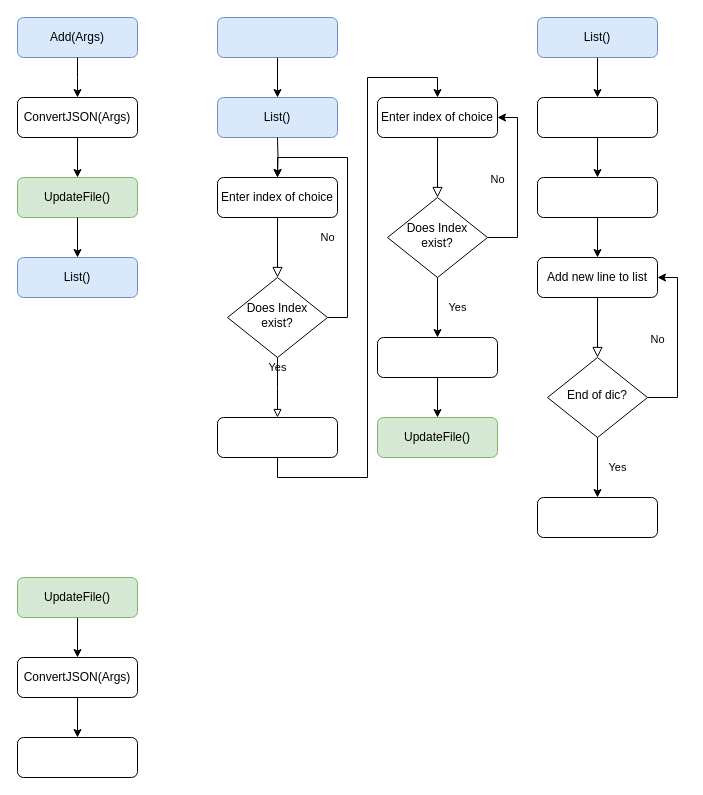
The diagram is 703 pixels wide and 795 high, and some of its shapes have lost their labels. The shapes that lost their labels are listed below. From the top down, each one's centre as x and y in pixels, then its label:
(277,37): Edit()
(597,117): Read file
(597,197): While not end of dic
(437,357): Enter new info
(277,437): ListOptions()
(597,517): Print whole list
(77,757): InsertIntoFile(JSON)
